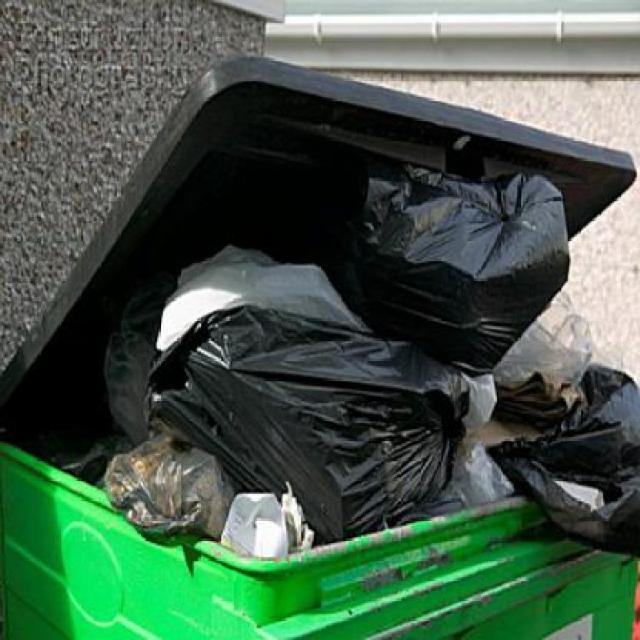garbage: (116, 260, 432, 533), (348, 162, 571, 369), (483, 348, 639, 552)
